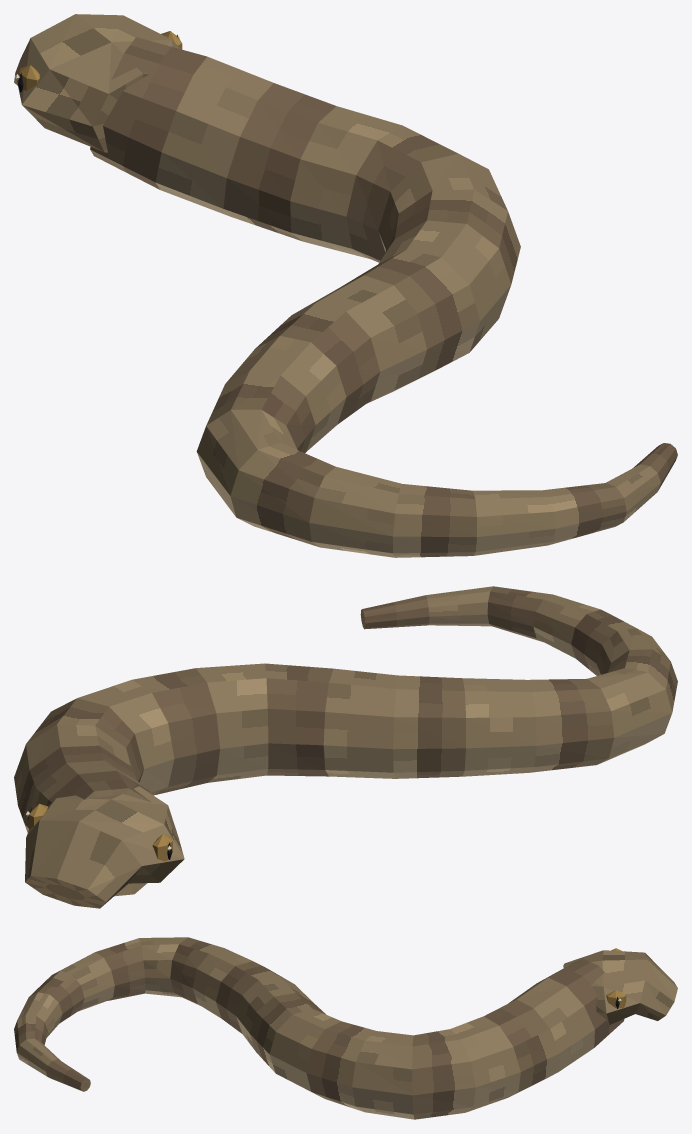
Rendered from mon_rattlesnake_big_s.glb.
3 renders of one model, top to bottom at view 1: azimuth 30°, elevation 25°; view 2: azimuth 150°, elevation 25°; view 3: azimuth 270°, elevation 25°, orthographic. The views are drawn at different scales.
Parts seen in each view (by area): view 1: closed_body; view 2: closed_body; view 3: closed_body.
Boxes of the visible parts, <box> form: closed_body: <box>14,14,677,557</box>; closed_body: <box>14,586,677,908</box>; closed_body: <box>14,937,677,1119</box>.
Size of the model in its own units: 0.2891 by 0.0934 by 0.5491.
1 material, 1 textured.
